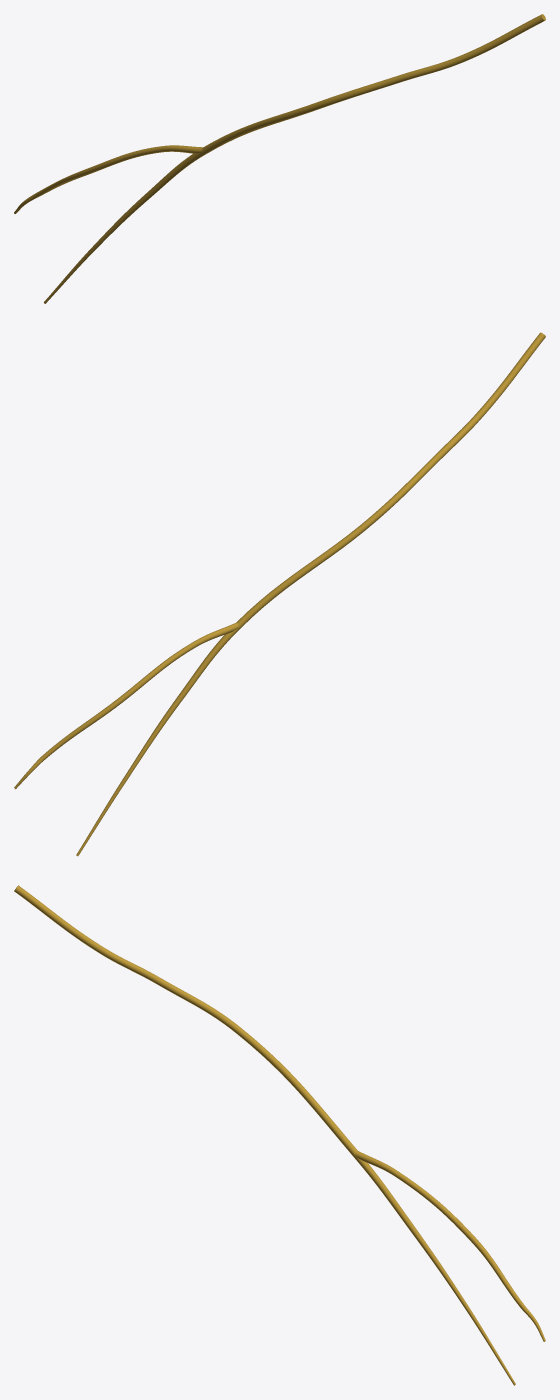
3 renders of one model, top to bottom at view 1: azimuth 90°, elevation 25°; view 2: azimuth 150°, elevation 25°; view 3: azimuth 270°, elevation 25°, orthographic.
Visible parts, largest first — view 1: 右侧下颌舌骨肌神经; view 2: 右侧下颌舌骨肌神经; view 3: 右侧下颌舌骨肌神经.
Boxes of the visible parts, bbox=[...] form: 右侧下颌舌骨肌神经: bbox=[14, 14, 545, 303]; 右侧下颌舌骨肌神经: bbox=[14, 332, 545, 856]; 右侧下颌舌骨肌神经: bbox=[14, 885, 545, 1385].
Size of the model in its own units: 0.037 by 0.0521 by 0.0637.
